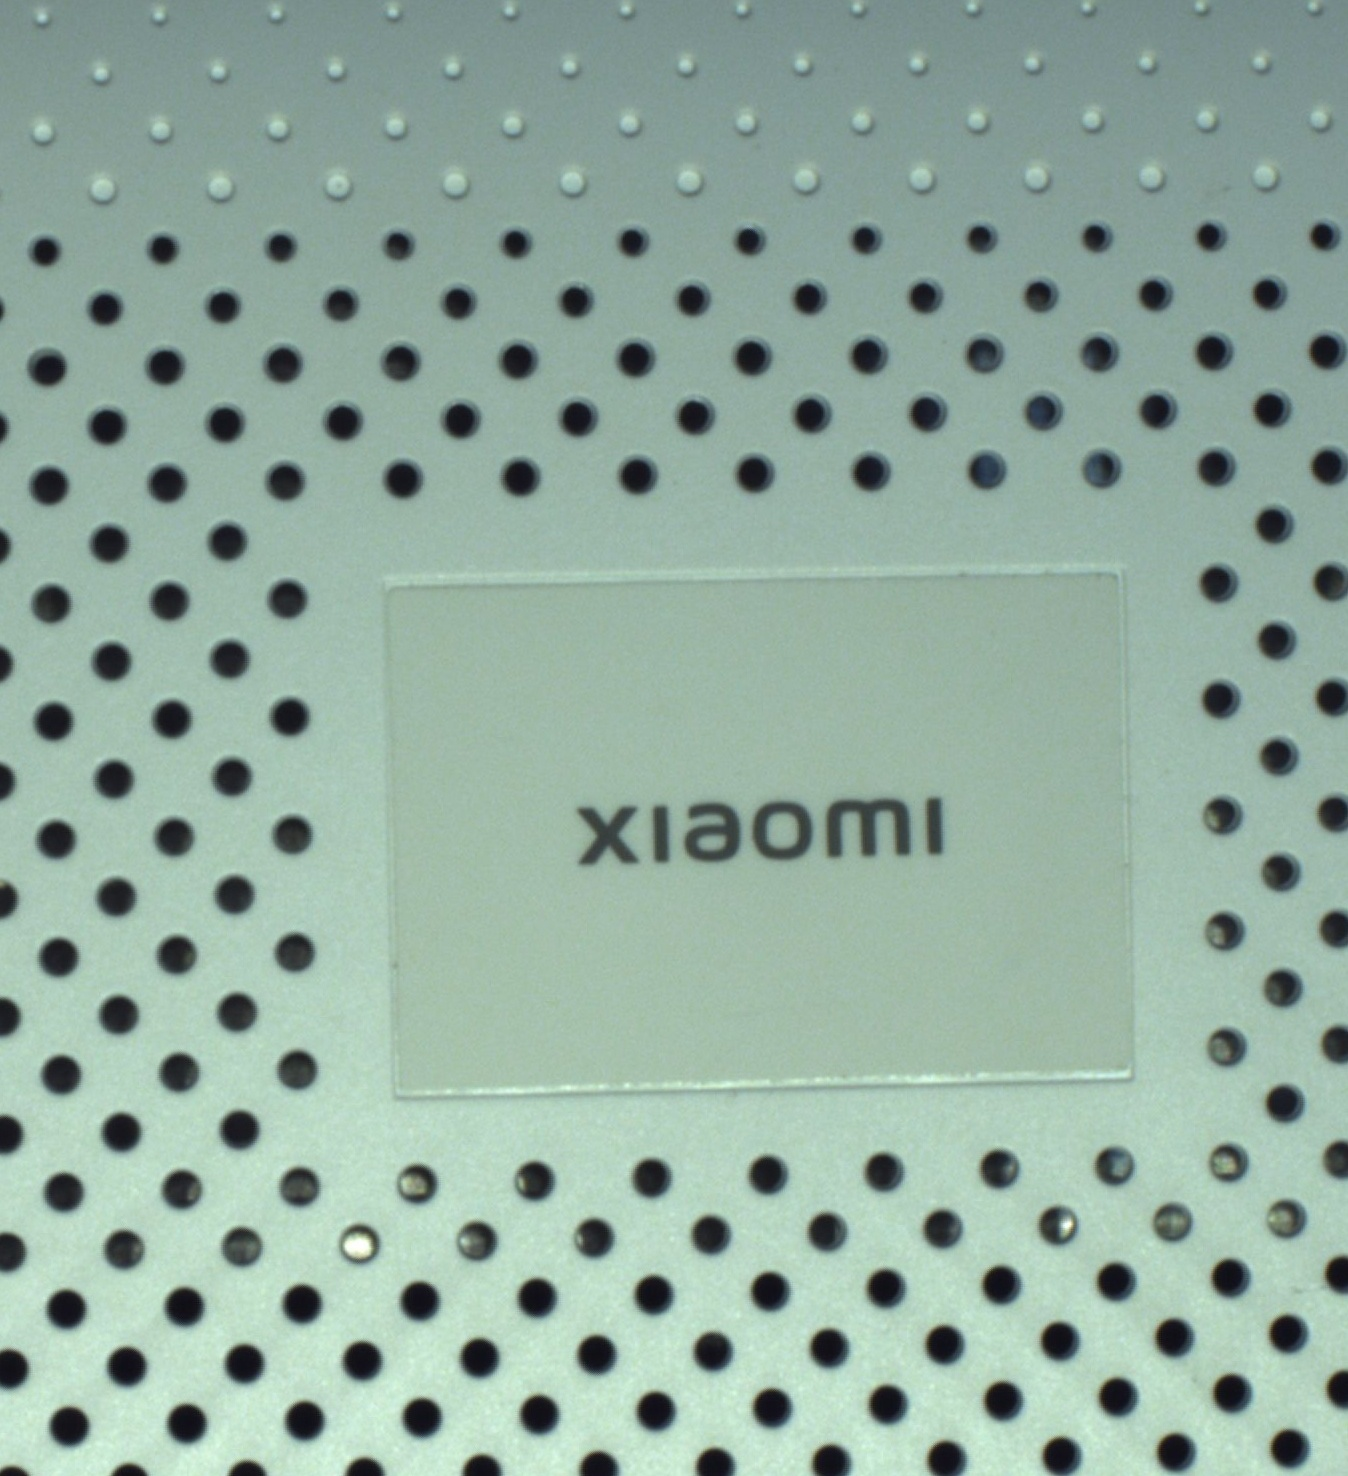MAB_OldUnicom: (567, 775, 958, 882)
